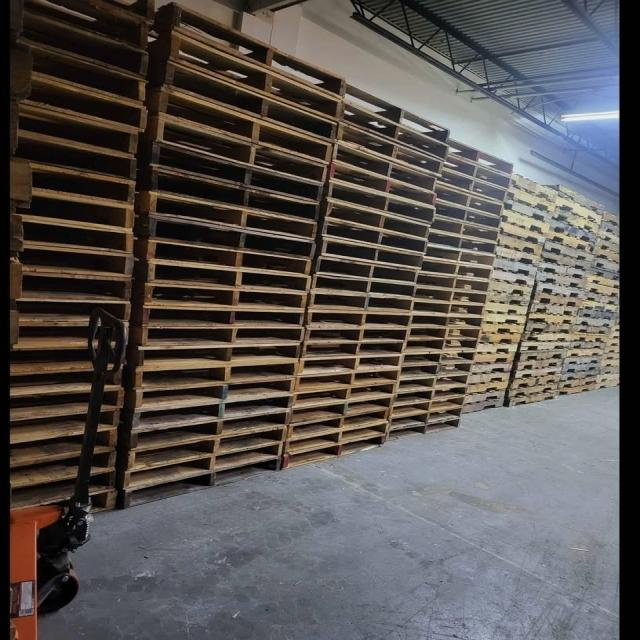non-igps: (156, 0, 351, 105), (161, 19, 348, 128), (155, 53, 344, 149), (145, 109, 331, 192), (144, 131, 326, 208), (2, 3, 155, 88), (0, 29, 153, 113), (141, 162, 324, 230), (142, 183, 321, 245), (0, 68, 155, 139), (143, 210, 323, 266), (122, 453, 285, 512), (0, 0, 153, 62), (0, 98, 143, 164), (124, 422, 291, 476), (120, 440, 288, 493), (0, 179, 139, 243), (0, 128, 142, 189), (126, 390, 297, 440), (338, 74, 452, 148), (142, 254, 316, 302), (336, 94, 453, 164), (126, 405, 296, 453), (3, 155, 141, 214), (139, 235, 315, 280), (0, 208, 137, 264), (131, 372, 301, 416), (333, 117, 446, 182), (128, 356, 302, 396), (0, 235, 141, 284), (140, 277, 311, 317), (3, 308, 134, 358), (6, 422, 129, 475), (6, 465, 123, 519), (131, 338, 306, 374), (134, 300, 308, 336), (328, 140, 439, 196), (0, 264, 136, 309), (327, 157, 439, 211), (5, 358, 140, 402), (324, 176, 438, 228), (137, 318, 311, 352), (4, 382, 131, 427), (322, 194, 434, 245), (4, 485, 125, 532), (8, 404, 126, 450), (6, 448, 123, 494), (7, 342, 131, 385), (2, 291, 134, 331), (0, 0, 160, 31), (282, 418, 393, 462), (318, 215, 430, 258), (280, 432, 390, 474), (282, 407, 393, 445), (319, 234, 427, 273), (287, 392, 397, 430), (290, 364, 404, 398), (312, 254, 422, 288), (290, 379, 399, 413), (307, 272, 420, 302), (430, 178, 508, 221), (439, 150, 515, 193), (306, 286, 417, 315), (433, 165, 511, 206), (304, 304, 416, 332), (294, 349, 406, 377), (443, 135, 515, 178), (301, 322, 414, 349), (428, 197, 506, 236), (298, 339, 410, 364), (421, 239, 499, 274), (424, 213, 503, 247), (422, 226, 500, 260), (536, 181, 607, 218), (415, 254, 496, 284), (386, 394, 468, 422), (382, 417, 464, 444), (415, 268, 492, 296), (384, 407, 466, 432), (414, 282, 491, 308), (501, 183, 559, 216), (551, 194, 605, 228), (548, 204, 602, 238), (499, 193, 555, 225), (392, 384, 472, 406), (507, 170, 560, 203), (498, 206, 552, 238), (395, 373, 477, 393), (411, 298, 489, 319), (546, 217, 600, 247), (544, 228, 598, 258), (538, 239, 596, 266), (495, 220, 550, 248), (532, 277, 590, 303), (409, 312, 487, 331), (533, 257, 590, 283), (494, 231, 546, 259), (536, 248, 594, 273), (490, 252, 541, 280), (533, 268, 591, 292), (492, 243, 544, 269), (407, 326, 485, 343), (530, 288, 585, 312), (405, 338, 481, 355), (506, 378, 562, 401), (487, 266, 538, 290), (482, 285, 533, 309), (527, 299, 580, 322), (400, 352, 480, 367), (506, 388, 563, 409), (508, 371, 564, 392), (519, 325, 574, 346), (484, 278, 536, 300), (512, 361, 566, 382), (524, 317, 582, 336), (480, 296, 530, 318), (458, 395, 507, 416), (478, 307, 529, 327), (461, 386, 509, 407), (475, 326, 524, 346), (526, 309, 580, 327), (479, 318, 527, 338), (398, 364, 476, 376), (516, 338, 574, 354), (582, 286, 622, 309), (463, 379, 511, 398), (515, 348, 570, 364), (556, 372, 600, 392), (473, 338, 520, 356), (512, 358, 568, 373), (573, 312, 617, 331), (472, 348, 518, 366), (575, 304, 620, 322), (590, 251, 622, 276), (584, 280, 620, 302), (468, 359, 514, 376), (464, 370, 512, 386), (557, 366, 603, 382), (568, 329, 611, 346), (588, 243, 621, 265), (579, 297, 621, 314), (586, 270, 621, 290), (552, 381, 598, 396), (588, 262, 622, 282), (569, 322, 614, 337), (592, 233, 620, 257), (567, 337, 608, 353), (561, 351, 604, 365), (560, 361, 604, 374), (595, 226, 622, 247), (597, 218, 621, 240), (599, 209, 621, 230), (564, 347, 606, 358), (592, 378, 622, 392), (594, 371, 622, 385), (596, 364, 622, 376), (598, 357, 621, 368), (602, 344, 621, 356), (604, 335, 621, 348), (600, 351, 621, 361), (606, 330, 621, 340)
